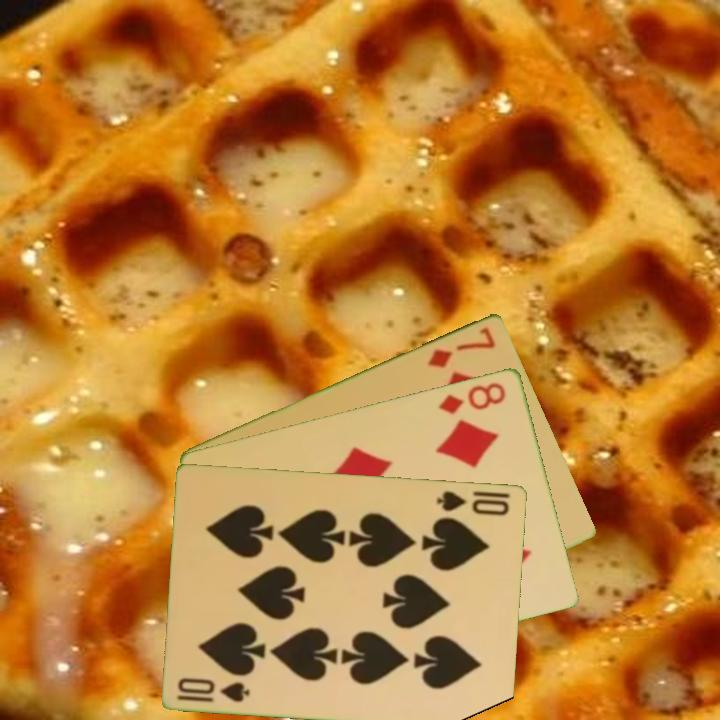10s: (434, 487, 513, 518), (174, 674, 253, 705)
7d: (424, 323, 499, 371)
8d: (435, 378, 509, 416)
